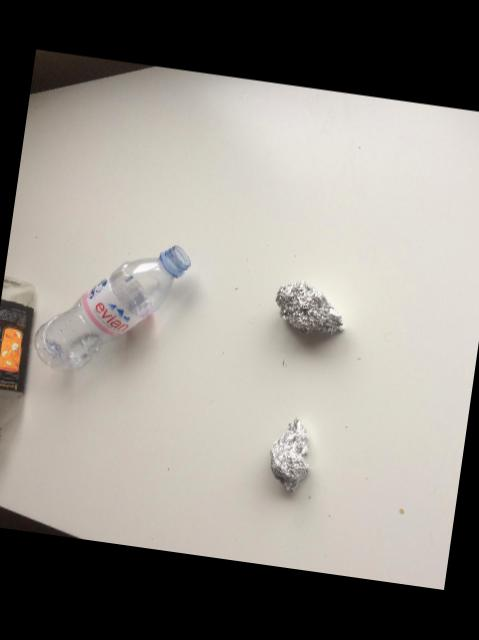plastic: (33, 246, 189, 371), (0, 276, 33, 429)
